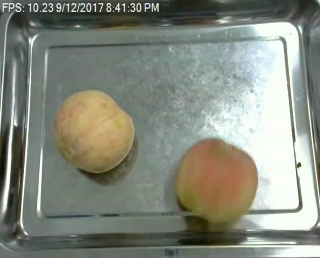Peach: (175, 136, 258, 227), (52, 88, 134, 173)
